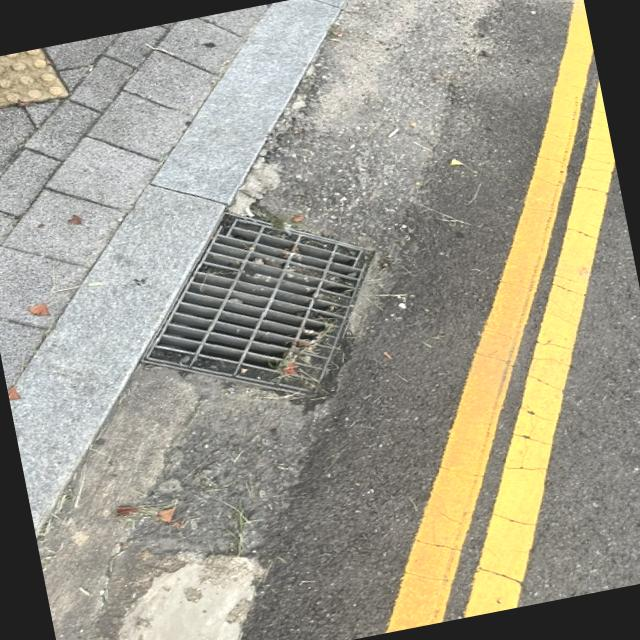drain_area: (158, 231, 346, 371), (258, 237, 356, 277)
drain_full: (144, 214, 374, 394)
